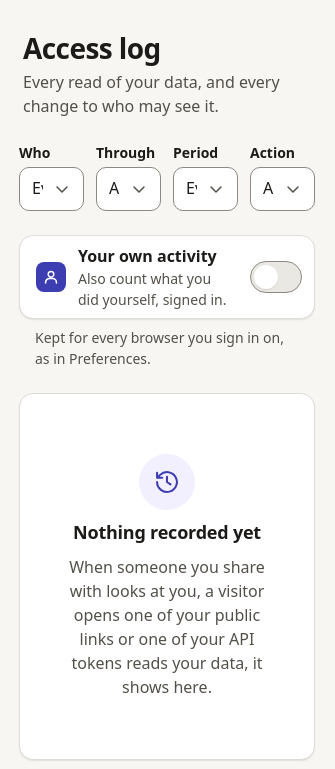
Settings › Access log › filters by who, channel, period and action, in its address
This screenshot has width=335, height=769.
expect the heading "Nothing recorded yet" is shown: met, box left=73, top=522, right=261, bottom=543
Select "Link visitors" in the dropdown labelled "Who" at [52, 189], box left=19, top=167, right=84, bottom=211
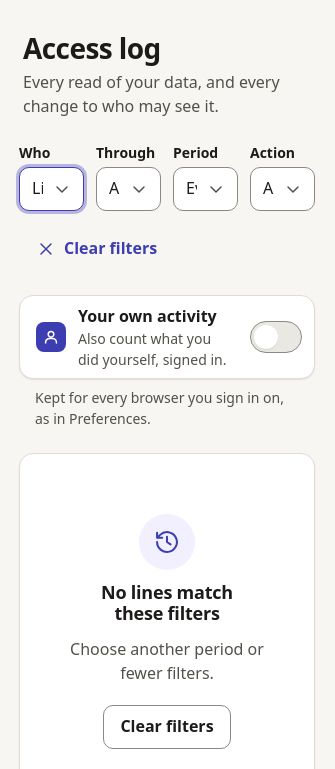
Select "Public link" in the dropdown labelled "Through" at [128, 189], box left=96, top=167, right=161, bottom=211
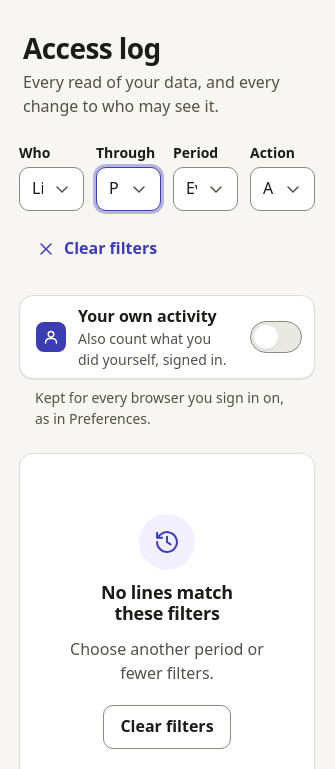
Select "Last 7 days" in the dropdown labelled "Period" at [206, 189], box left=173, top=167, right=238, bottom=211
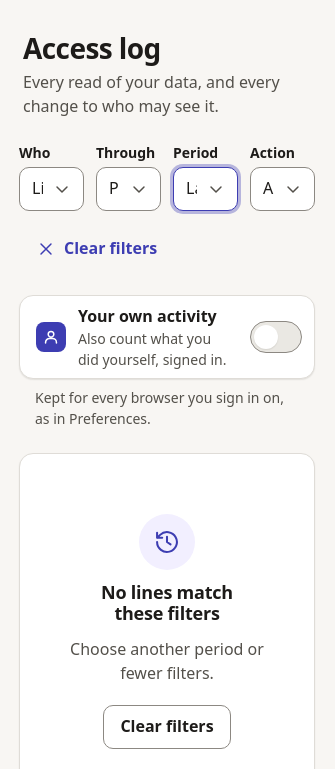
Select "A public link's page" in the dropdown labelled "Action" at [282, 189], box left=250, top=167, right=315, bottom=211
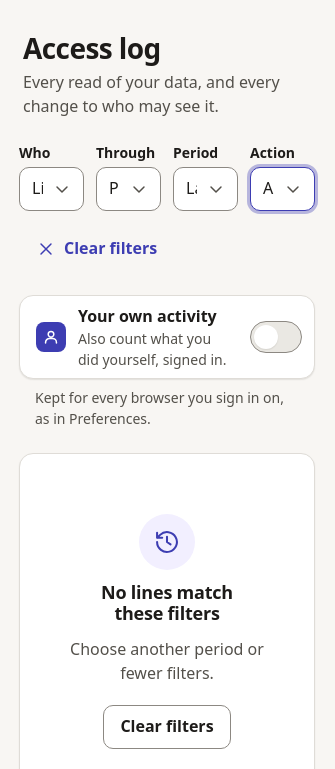
expect the heading "No lines match these filters" is shown: met, box left=101, top=580, right=233, bottom=625
Click the 1st button "Clear filters" at [97, 249], box left=19, top=227, right=174, bottom=271
(page scrolled)
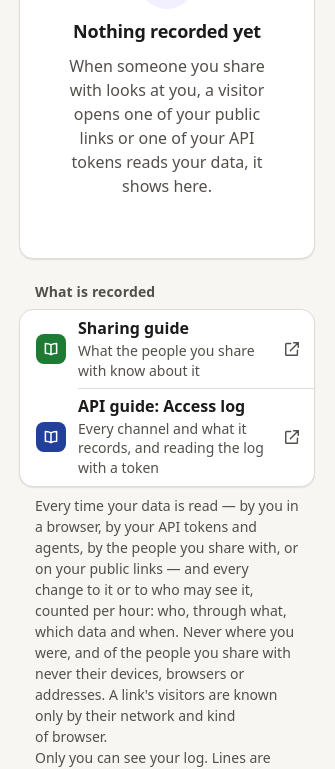
expect the heading "Nothing recorded yet" is shown: met, box left=73, top=21, right=261, bottom=42
